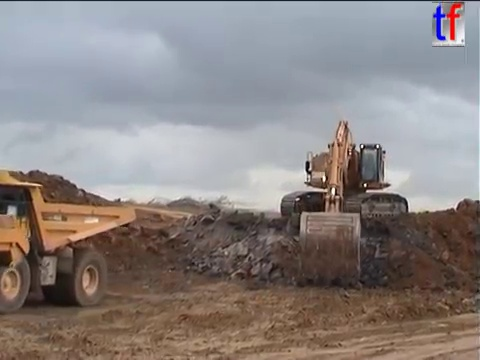excavator: (277, 117, 411, 289)
truck: (1, 167, 138, 315), (1, 212, 33, 263)
